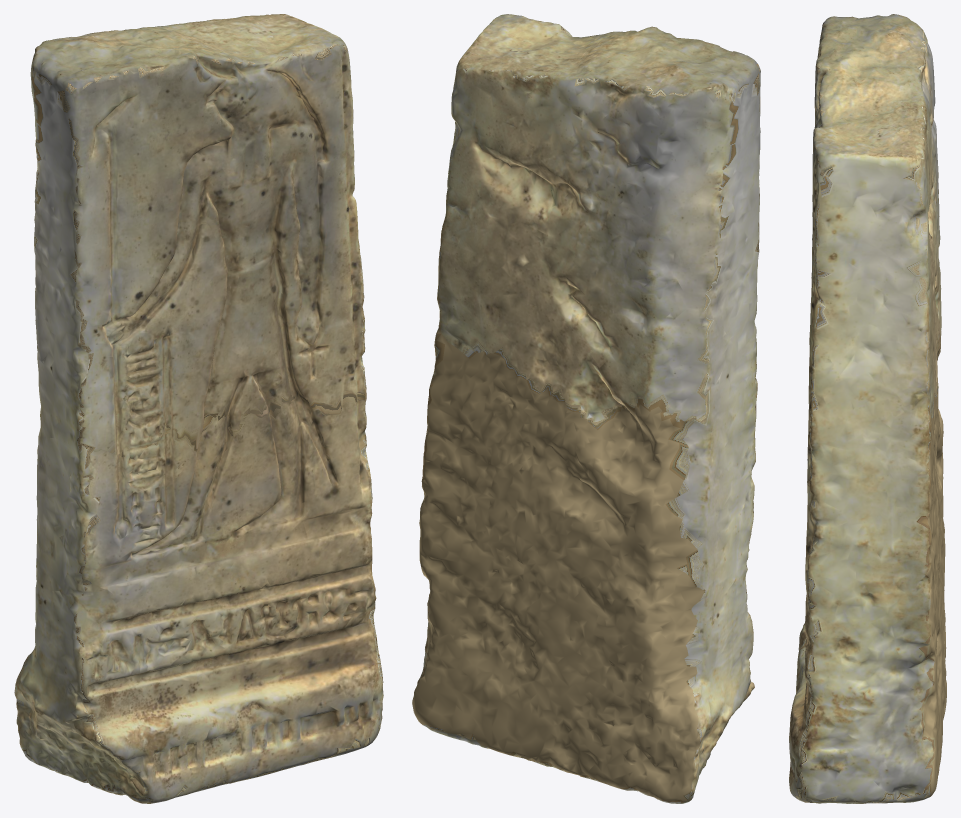
File: estela-hmane.glb
The picture shows the model from 3 angles, left to right: view 1: azimuth 30°, elevation 25°; view 2: azimuth 150°, elevation 25°; view 3: azimuth 270°, elevation 25°; orthographic projection. The views are drawn at different scales.
Visible parts, largest first — view 1: Object_2; view 2: Object_2; view 3: Object_2.
Part boxes in pixels (box(x1,y1,x2,y2)): Object_2: box(14, 14, 383, 803); Object_2: box(412, 14, 760, 803); Object_2: box(789, 14, 946, 803).
Size of the model in its own units: 122 by 277 by 58.87.
Materials: 1 (1 with a texture image).
